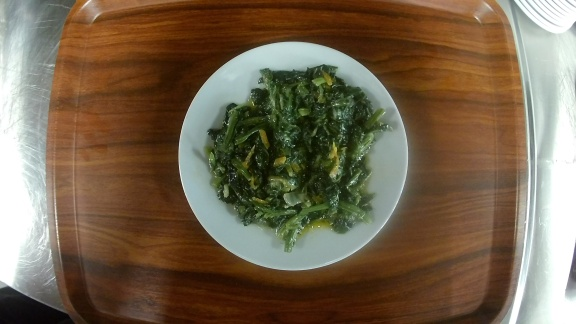ispanak: (175, 40, 412, 272)
